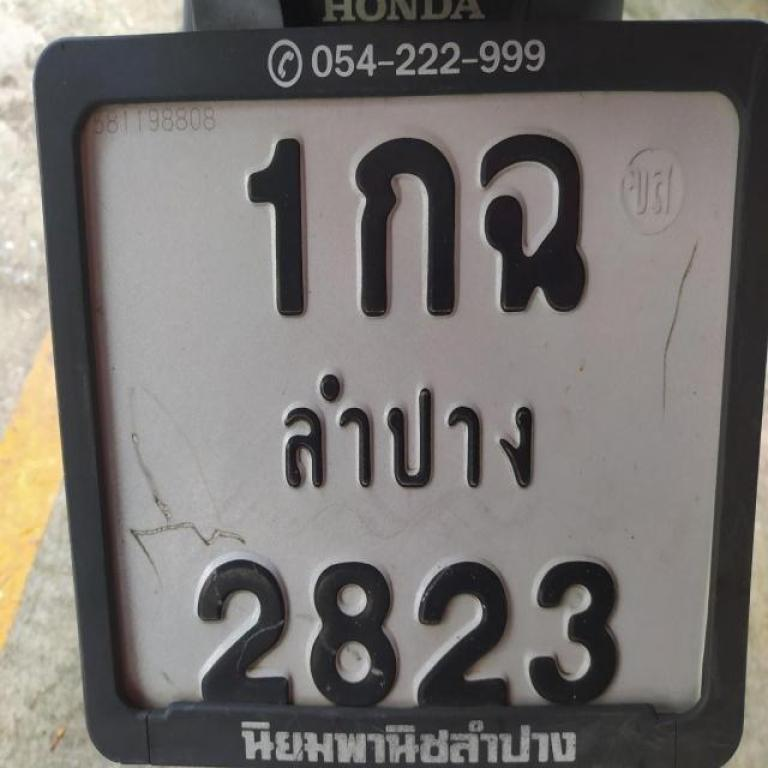license plate: (36, 1, 767, 767)
